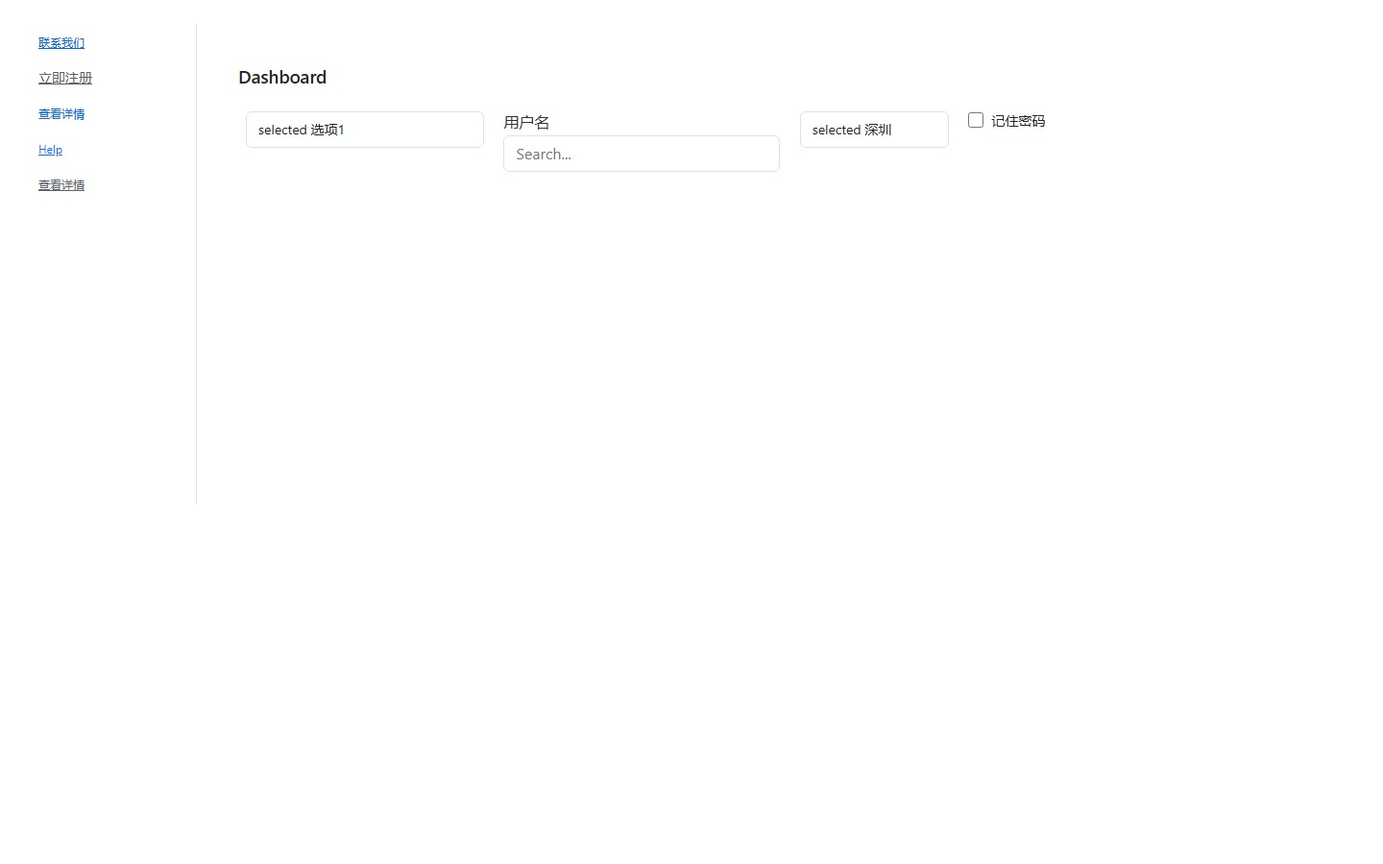checkbox: (968, 113, 984, 128)
icon: (991, 111, 1045, 129)
input: (504, 135, 780, 172)
link: (38, 68, 92, 86), (38, 35, 85, 50), (38, 106, 85, 121), (38, 177, 85, 192), (38, 141, 62, 156)
radio: (968, 111, 1045, 129)
select: (246, 111, 484, 148), (800, 111, 949, 148)
